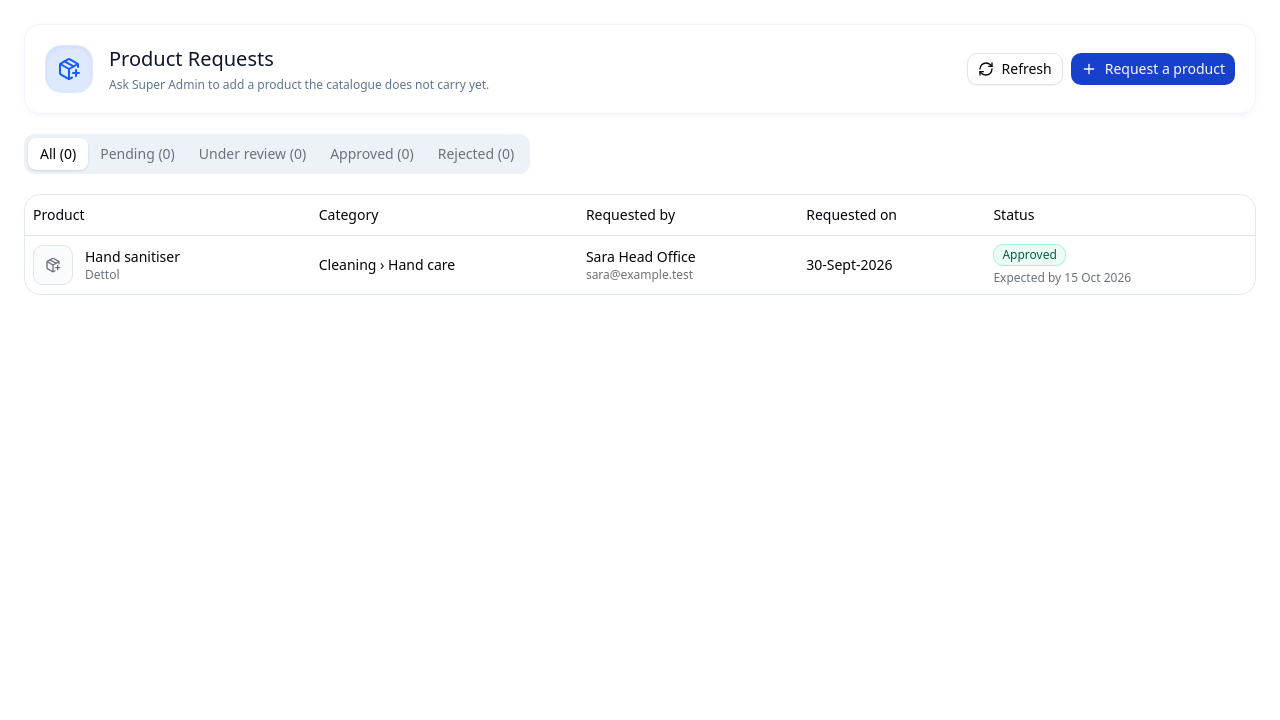
Test: ProductRequestsView for Head Office › shows when an approved product is expected in the catalogue, in the list and the request
Expected: the text "Expected by 15 Oct 2026" is shown, [993, 268, 1131, 286]
Click the row named "Open request for Hand sanitiser": (640, 264) [25, 235, 1255, 294]
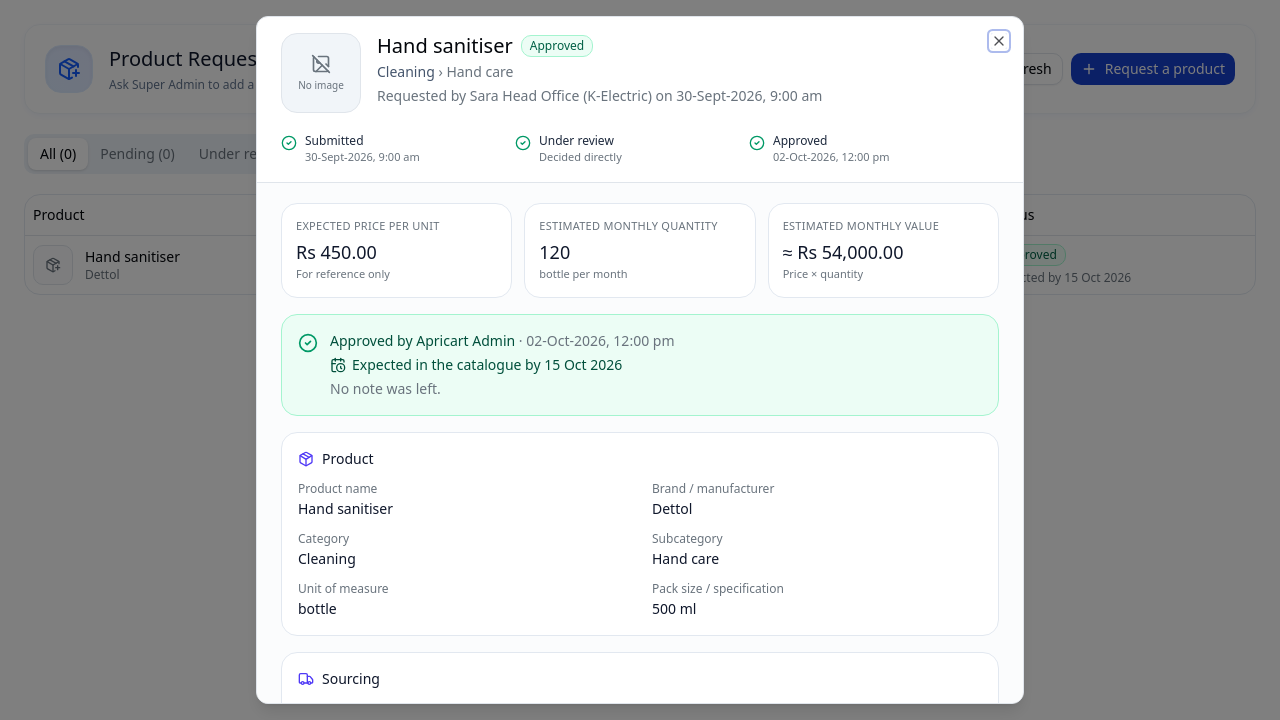
Expected: the text "Expected in the catalogue by 15 Oct 2026" is shown, [352, 354, 622, 374]
